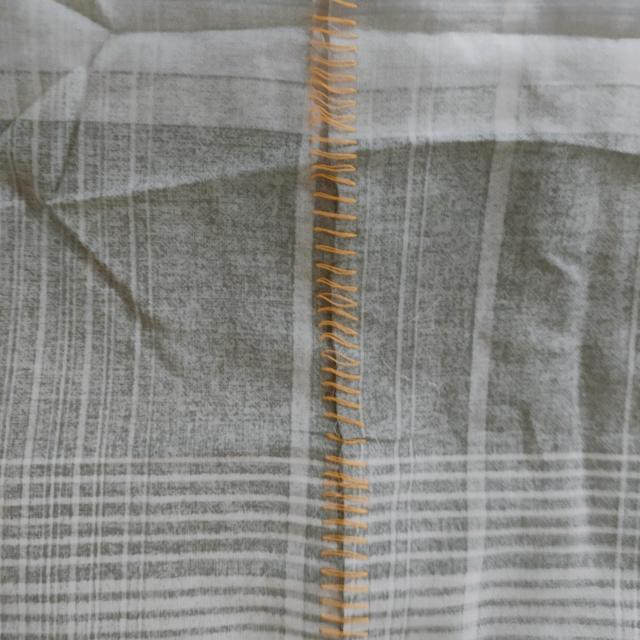gray stitch: (302, 0, 368, 640)
